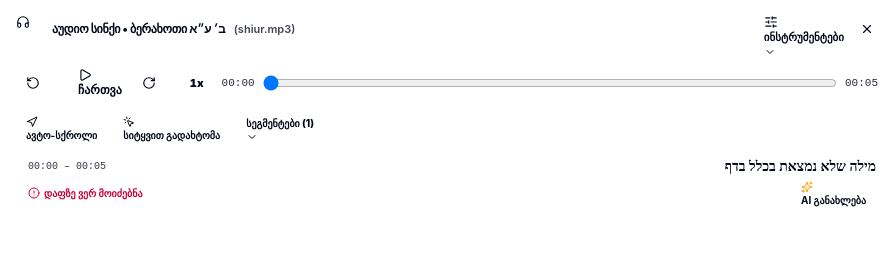
it: DafAudioSyncPanel › shows approximate highlights immediately when cached map has empty anchors and auto-resyncs once when cached map matches 0 words during playback
Earlier steps of the test are not shown.
Click the button with aria-label "დაკვრა" at coordinates (100, 83), box left=64, top=67, right=136, bottom=99
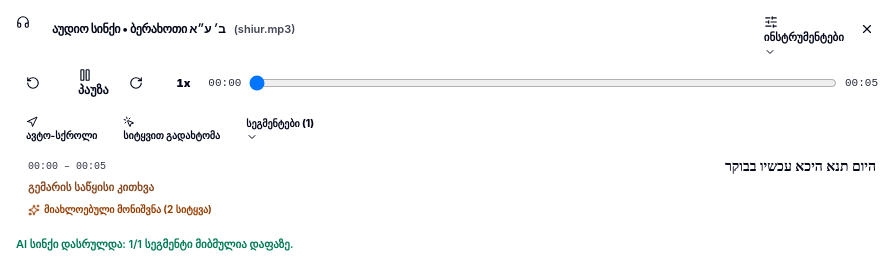
Expected: the element with test id "active-sync-match-status" has attribute data-match-kind="approximate", left=28, top=202, right=212, bottom=217
